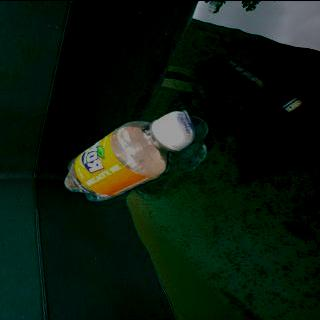bottle: (61, 108, 198, 202)
